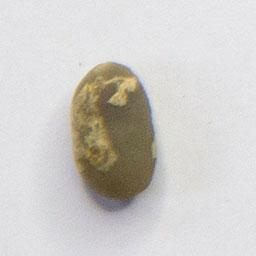peaberry: (67, 58, 161, 203)
